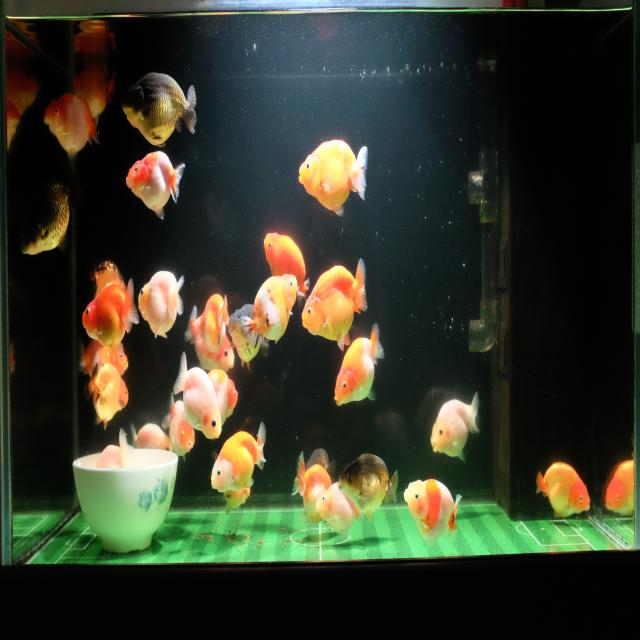Goldfish: (300, 252, 370, 354), (296, 134, 370, 220), (117, 69, 198, 147), (240, 270, 298, 358), (124, 146, 187, 226), (19, 170, 75, 260), (172, 351, 224, 443), (209, 416, 268, 494), (334, 320, 386, 408), (81, 276, 140, 352), (403, 476, 463, 550), (42, 90, 102, 164), (338, 449, 400, 516), (428, 389, 482, 461), (184, 304, 234, 378), (533, 458, 592, 520), (137, 267, 185, 340), (290, 450, 336, 526), (263, 231, 310, 303), (226, 300, 270, 374), (76, 329, 129, 388), (86, 360, 130, 431), (315, 476, 363, 537), (70, 60, 117, 118), (160, 391, 196, 458), (206, 365, 241, 426), (200, 289, 229, 356), (604, 457, 634, 521), (129, 418, 173, 461), (220, 482, 252, 518), (303, 444, 335, 474)
